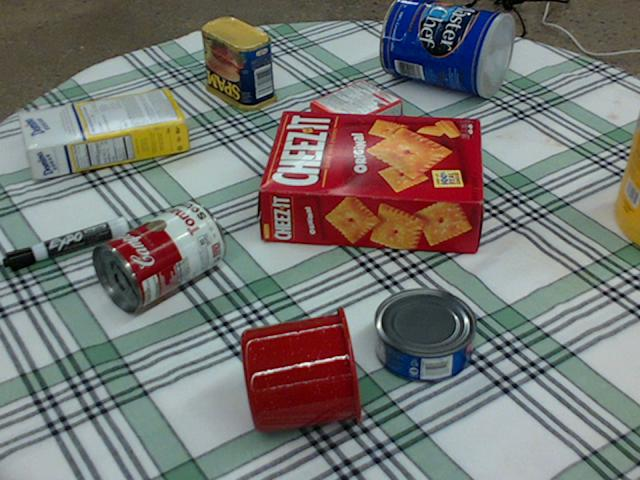cracker_box: (258, 108, 481, 251)
gelatin_box: (308, 76, 401, 143)
large_marker: (0, 216, 126, 271)
master_chef_can: (379, 0, 513, 96)
mug: (238, 302, 364, 435)
mustard_bottle: (614, 103, 639, 245)
potted_meat_can: (201, 16, 276, 109)
sugar_box: (17, 88, 188, 178)
tomato_soup_can: (91, 198, 224, 312)
tuna_fish_can: (374, 287, 477, 383)
